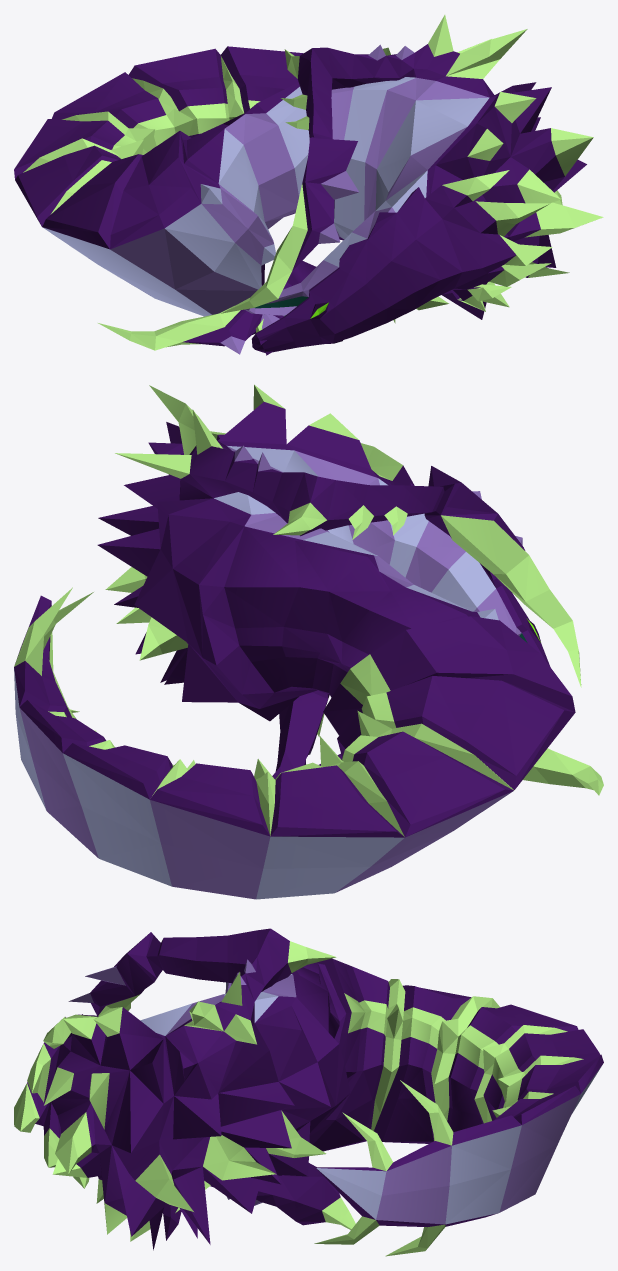
Rendered from Dead (40).obj.
The picture shows the model from 3 angles, top to bottom: view 1: azimuth 30°, elevation 25°; view 2: azimuth 150°, elevation 25°; view 3: azimuth 270°, elevation 25°; orthographic projection. The views are drawn at different scales.
Visible parts, largest first — view 1: Alien_Serpent; view 2: Alien_Serpent; view 3: Alien_Serpent.
Part boxes in pixels (left/top/right/bottom): Alien_Serpent: left=14, top=15, right=603, bottom=355; Alien_Serpent: left=14, top=384, right=603, bottom=899; Alien_Serpent: left=14, top=928, right=603, bottom=1256.
Bounding box in the file's own units: 216 × 144 × 246.
1 material, 1 textured.
